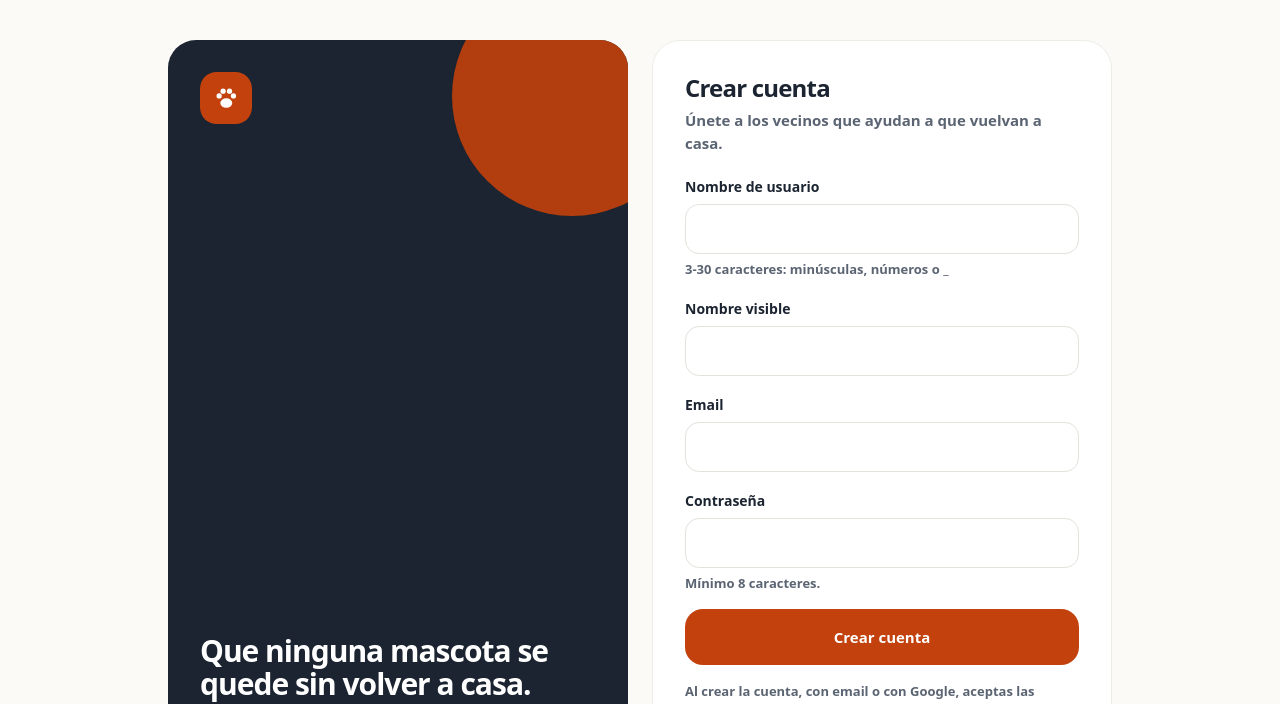
Test: crear cuenta › traduce los errores de Supabase
The image size is (1280, 704).
Type "pau_mulet" into the field labelled "Nombre de usuario".
click(882, 229); type("pau_mulet")  # box [685, 204, 1079, 254]
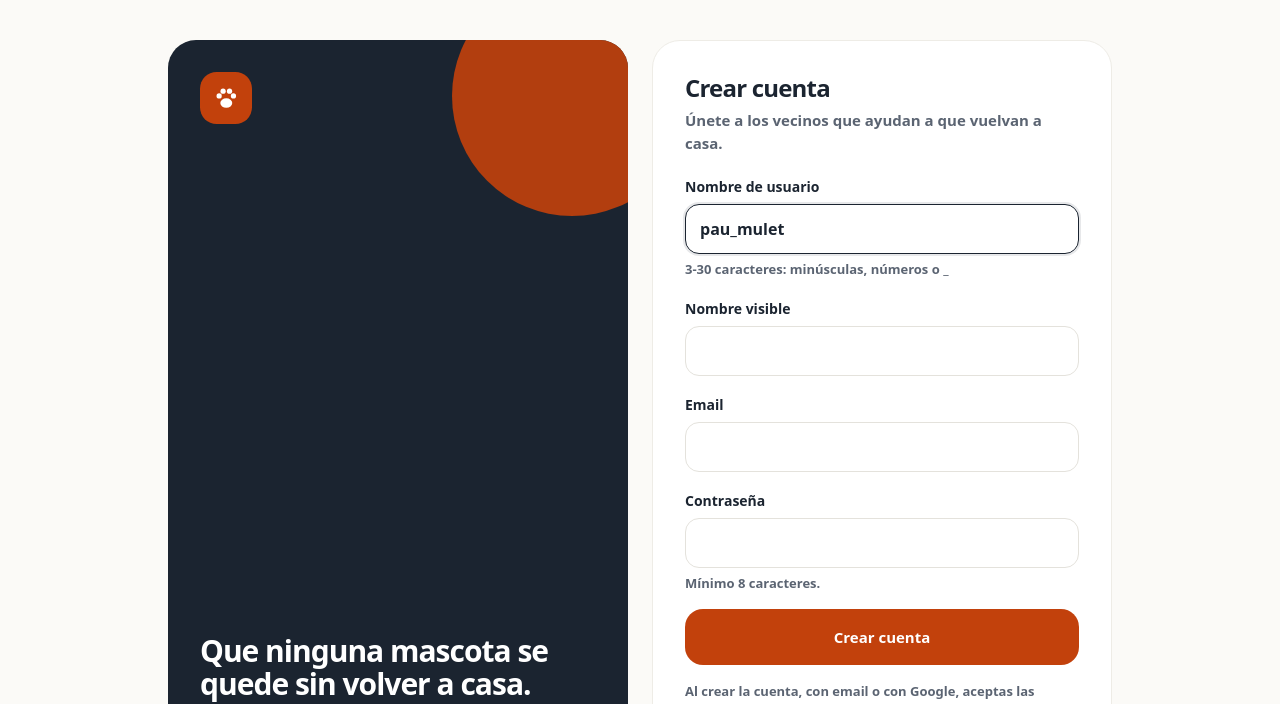
Type "Pau" into the field labelled "Nombre visible".
click(882, 350); type("Pau")  # box [685, 326, 1079, 376]
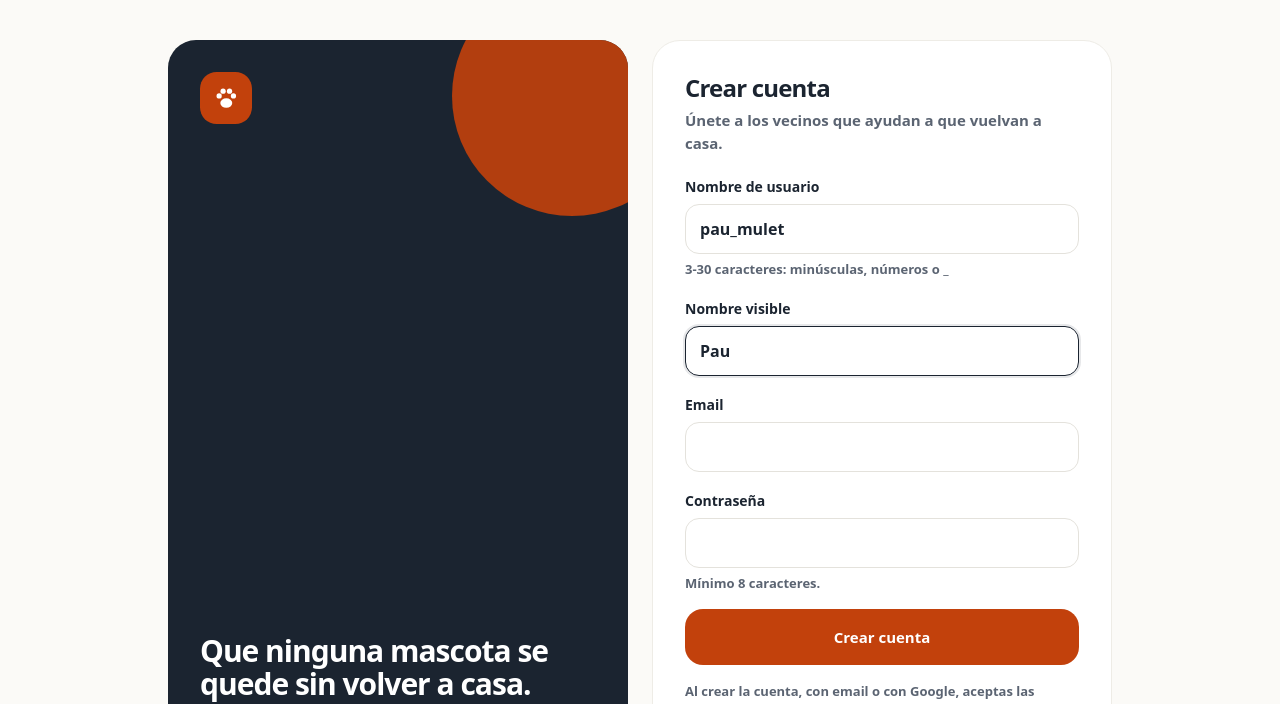
Type "pau@example.test" into the field labelled "Email".
click(882, 446); type("pau@example.test")  # box [685, 422, 1079, 472]
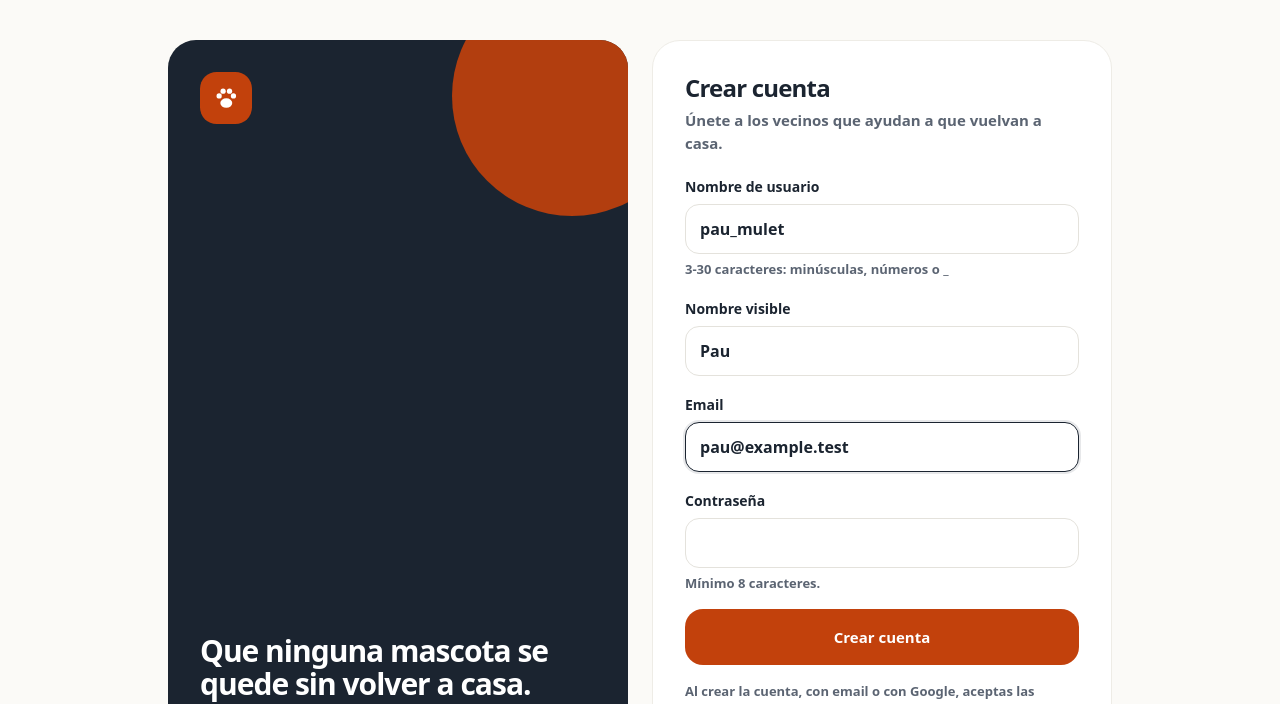
Type "contrasena123" into the password field labelled "Contraseña Mínimo 8 caracteres.".
click(882, 542); type("contrasena123")  # box [685, 518, 1079, 568]
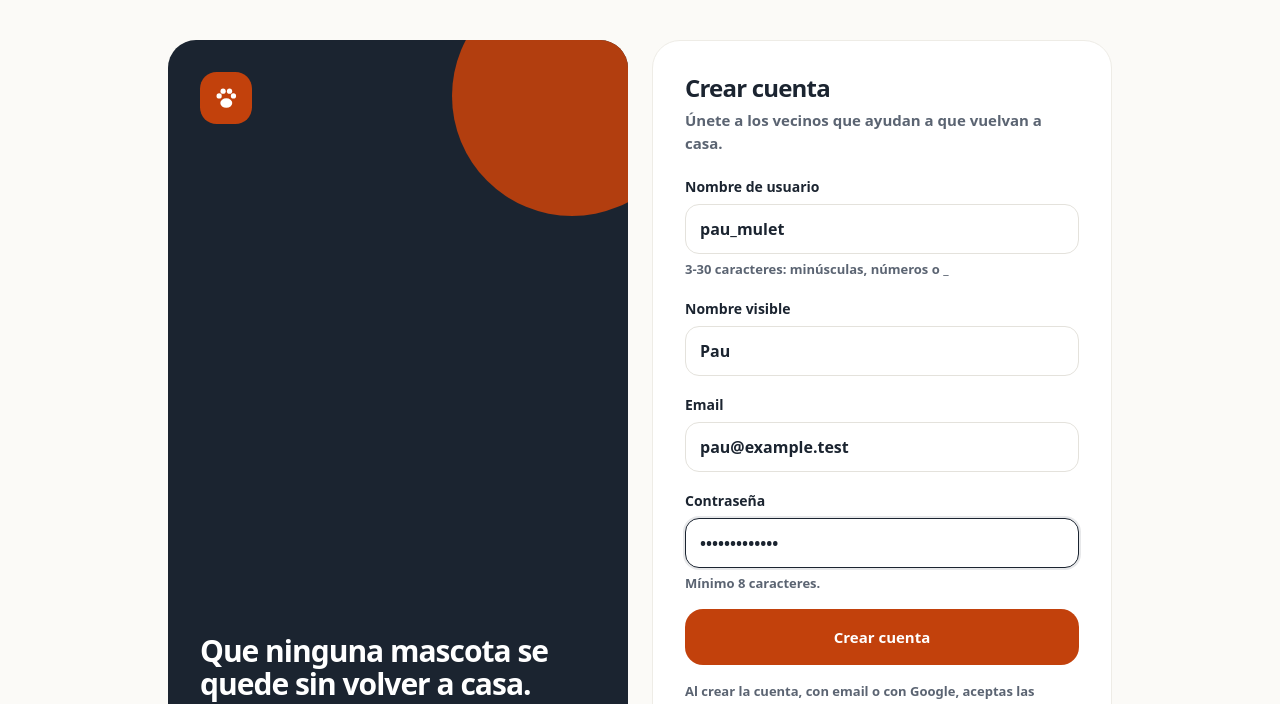
Click the button "Crear cuenta".
click(882, 637)  # box [685, 609, 1079, 665]
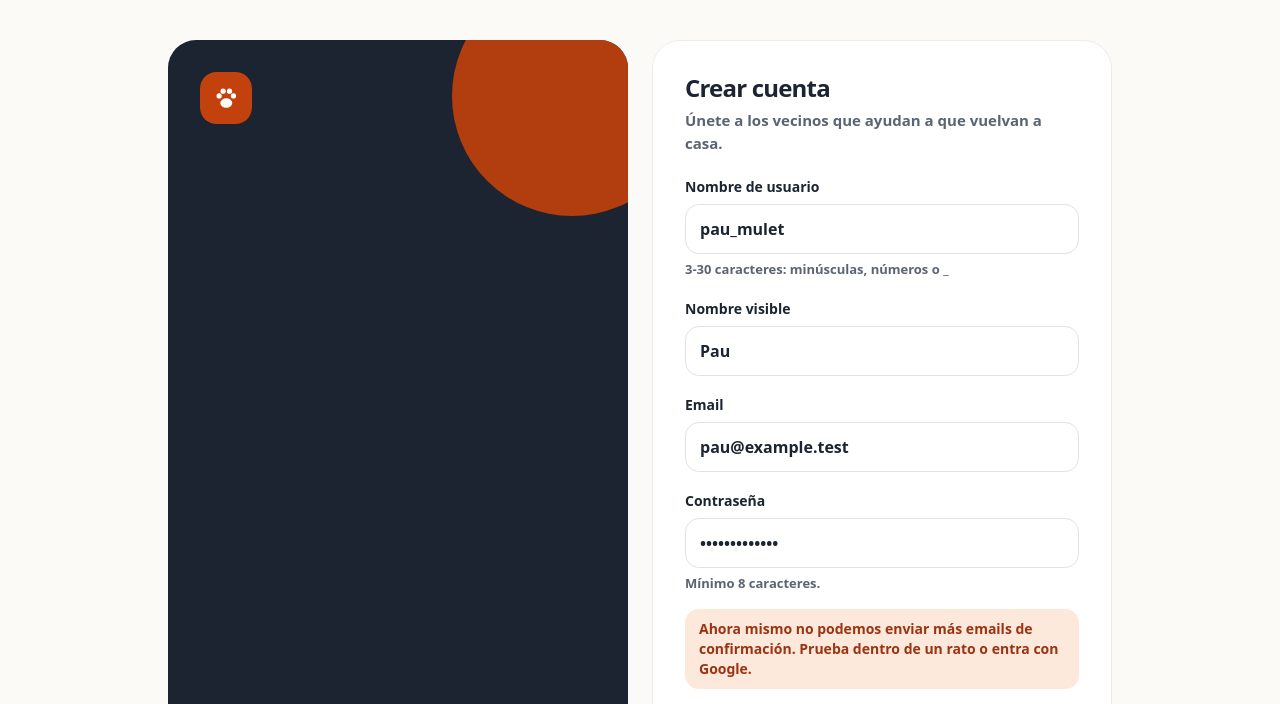
Expected: the message shows "Ahora mismo no podemos enviar más emails de confirmación. Prueba dentro de un rato o entra con Google.", [699, 619, 1058, 678]
